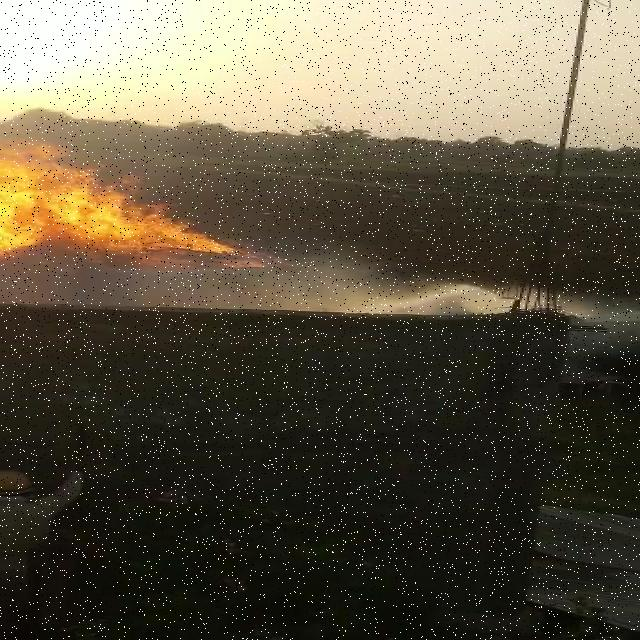fire: (1, 124, 274, 289)
